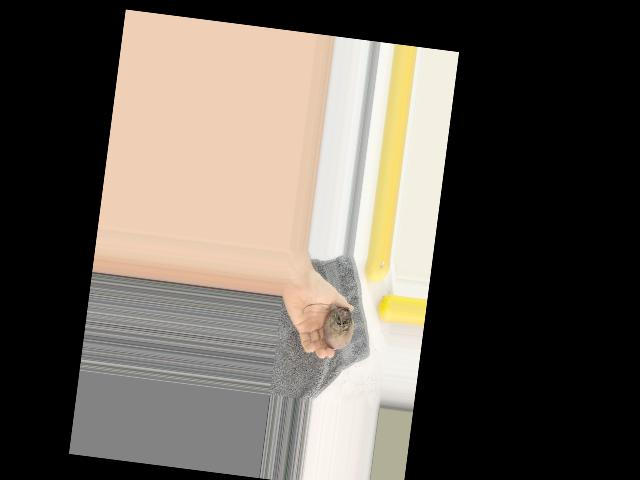beet: (298, 302, 356, 352)
